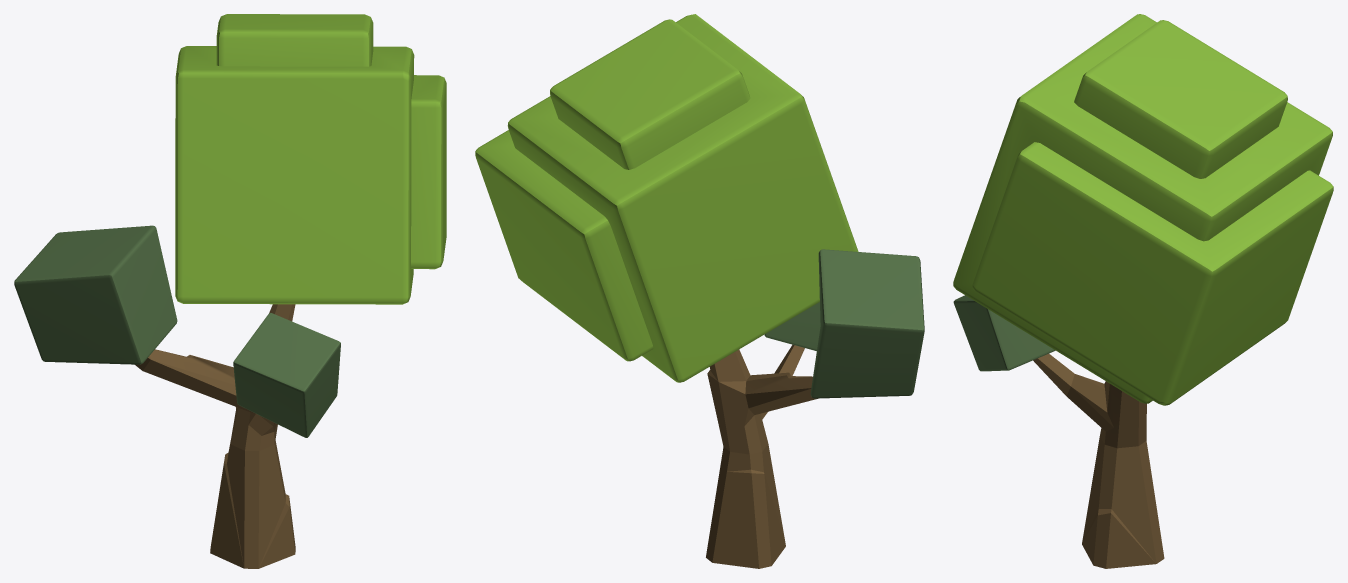
The model's file is model_polytope_tree06.fbx.
3 views of the same model, side by side, from view 1: azimuth 30°, elevation 25°; view 2: azimuth 150°, elevation 25°; view 3: azimuth 270°, elevation 25° (orthographic). The views are drawn at different scales.
Parts seen in each view (by area): view 1: model_polytope_tree06; view 2: model_polytope_tree06; view 3: model_polytope_tree06.
Boxes of the visible parts, x1=… form: model_polytope_tree06: x1=14, y1=14, x2=446, y2=568; model_polytope_tree06: x1=475, y1=14, x2=924, y2=568; model_polytope_tree06: x1=953, y1=14, x2=1333, y2=568.
Bounding box in the file's own units: 344 × 376 × 246.
